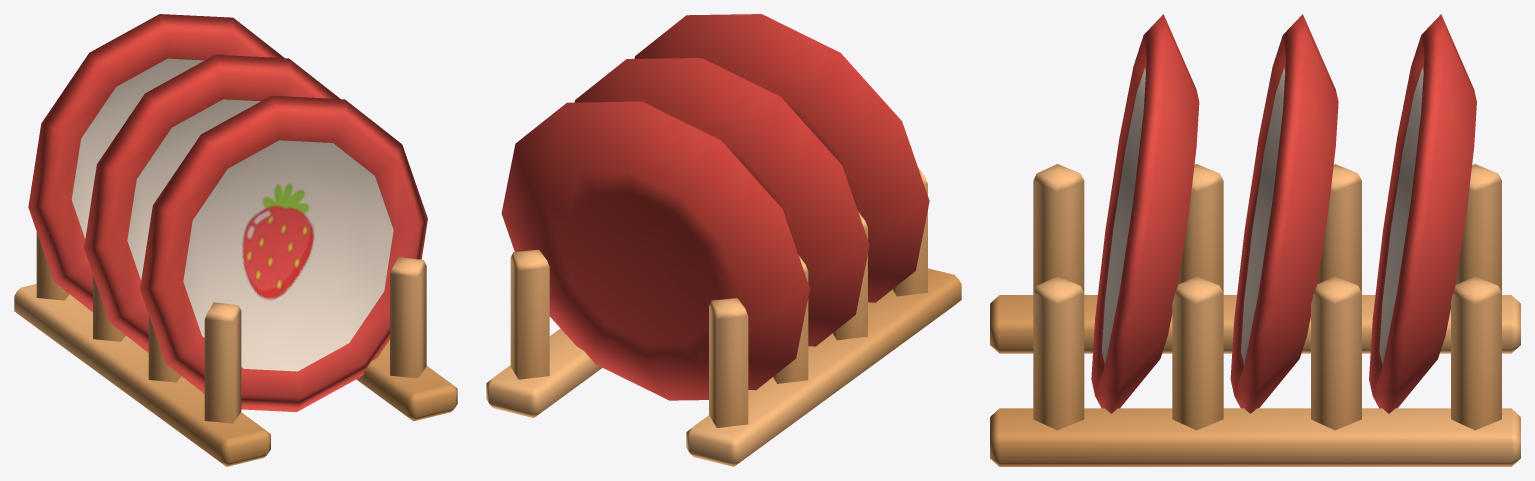
Rendered from Homestead_cm_12.fbx.
3 renders of one model, left to right at view 1: azimuth 30°, elevation 25°; view 2: azimuth 150°, elevation 25°; view 3: azimuth 270°, elevation 25°, orthographic. The views are drawn at different scales.
Visible parts, largest first — view 1: Homestead_cm_12; view 2: Homestead_cm_12; view 3: Homestead_cm_12.
Boxes of the visible parts, x1,y1,x2,y2 form: Homestead_cm_12: (14,14,457,466); Homestead_cm_12: (486,14,961,466); Homestead_cm_12: (990,14,1520,466).
Size of the model in its own units: 49.99 by 49.39 by 64.17.
